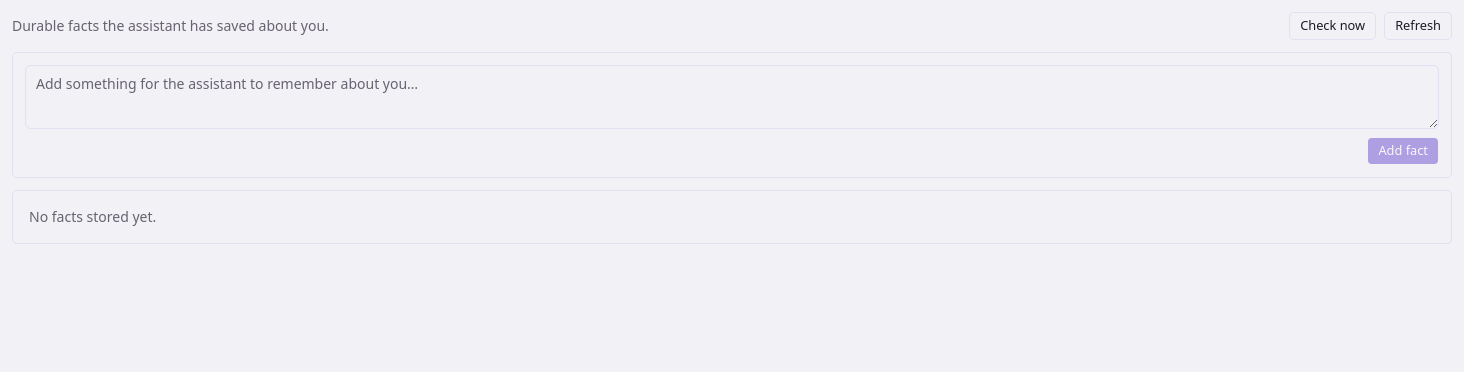
it: MemoryPanel › adds a user-typed fact and shows it without a fetch round trip
Check: the text "No facts stored yet." is shown, box x1=29 y1=207 x2=156 y2=226
In the text box with test id "new-fact-input": (732, 97) x1=25 y1=65 x2=1439 y2=129, type "user's favorite color is teal"
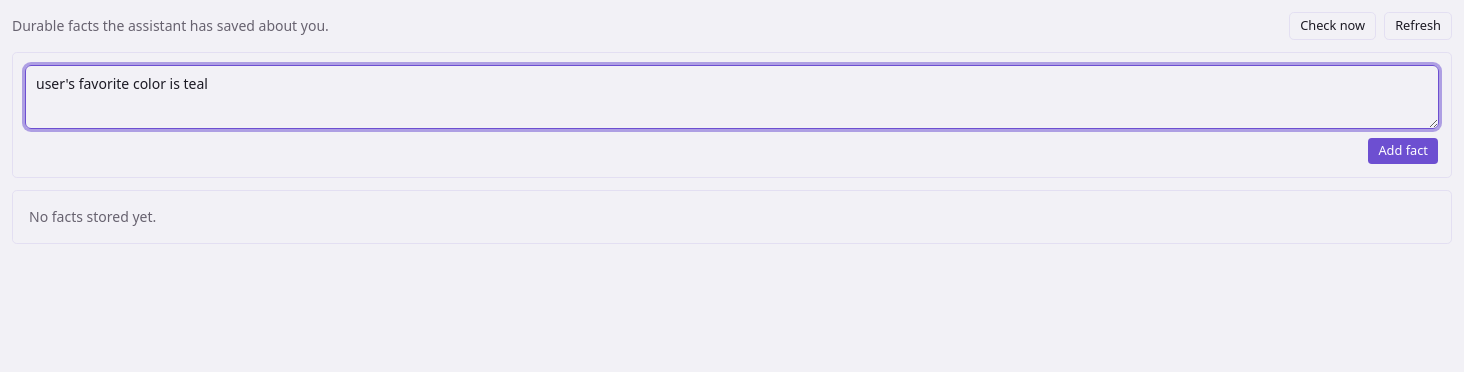
Click the button with test id "new-fact-submit": click(1403, 151) x1=1367 y1=137 x2=1439 y2=165
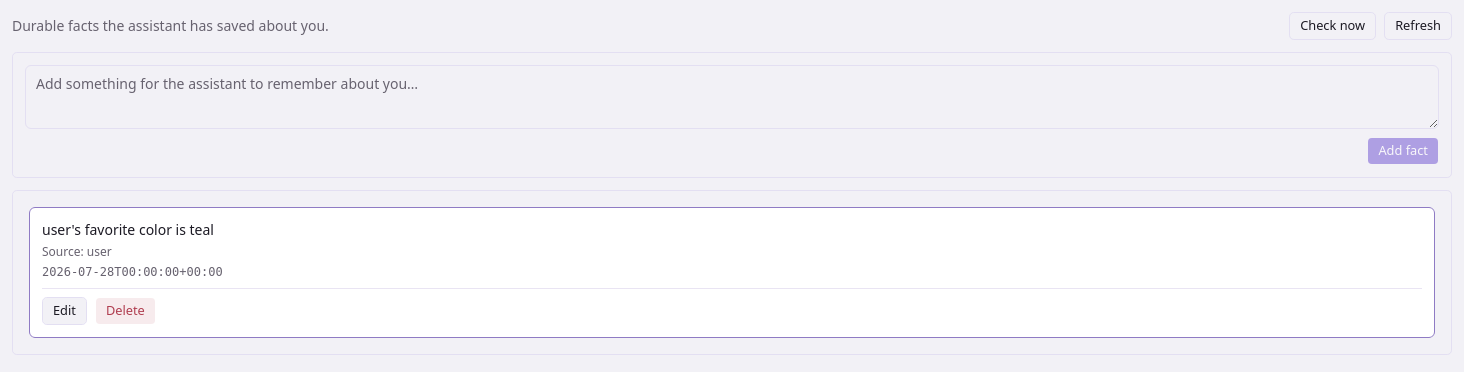
Check: the text "user's favorite color is teal" is shown, box x1=42 y1=220 x2=214 y2=239
